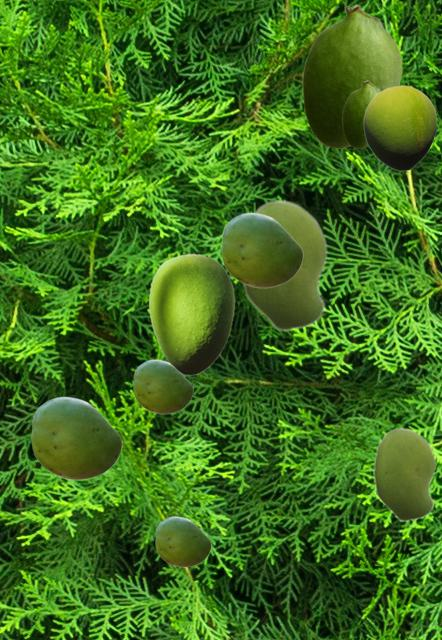green_mango: (302, 4, 401, 147), (241, 199, 327, 331), (148, 253, 234, 374), (31, 396, 121, 479), (363, 85, 436, 170), (221, 212, 302, 287), (373, 427, 435, 521), (133, 359, 192, 413), (155, 516, 210, 566), (342, 80, 380, 147)
